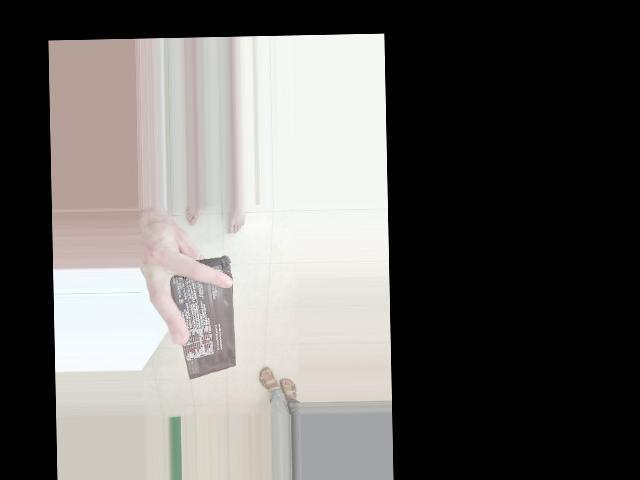chocolate: (174, 280, 303, 358)
